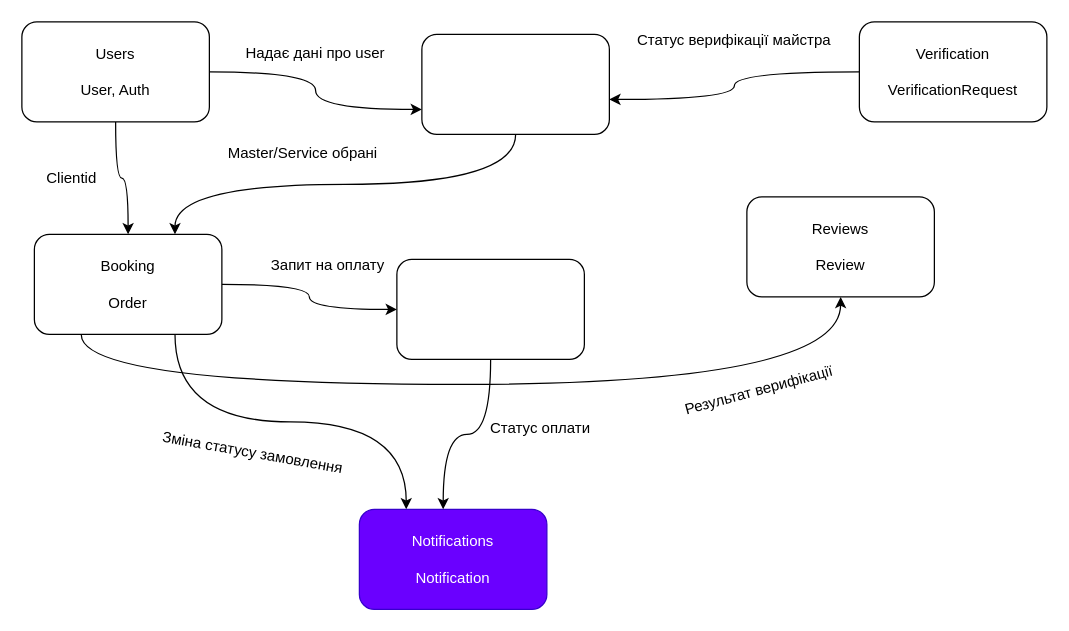
This 1069x631 diagram has some shape labels left out. Here are the shapes that lost their labels. From the top down, the centre of each, then its label:
At point (515, 83): "Catalog Master,Service".
At point (490, 308): "Payments Payment".
